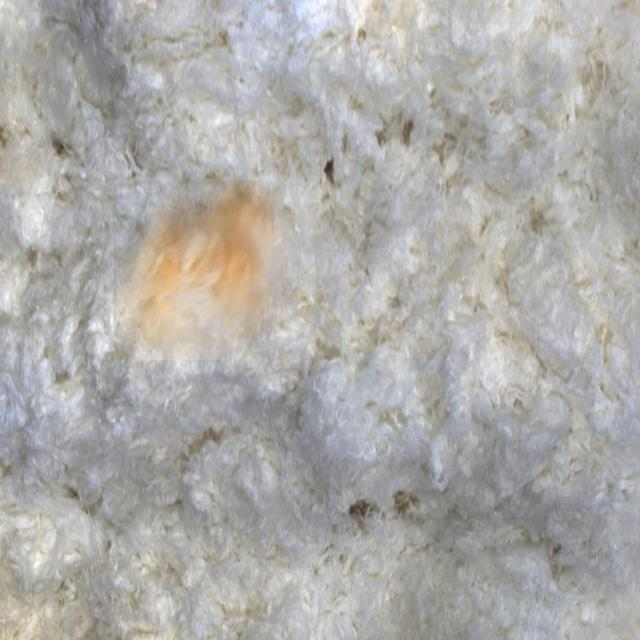dust: (113, 181, 289, 360)
